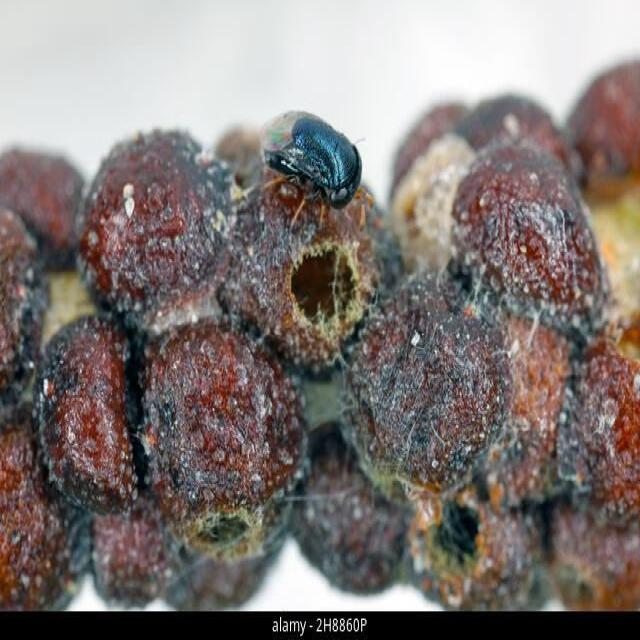Black Scale: (142, 322, 301, 551), (347, 281, 511, 491), (453, 142, 605, 346), (220, 183, 382, 367), (80, 130, 226, 329), (34, 316, 137, 513), (298, 425, 407, 593), (0, 418, 85, 609), (558, 346, 639, 524), (409, 504, 546, 609), (0, 200, 46, 408)
